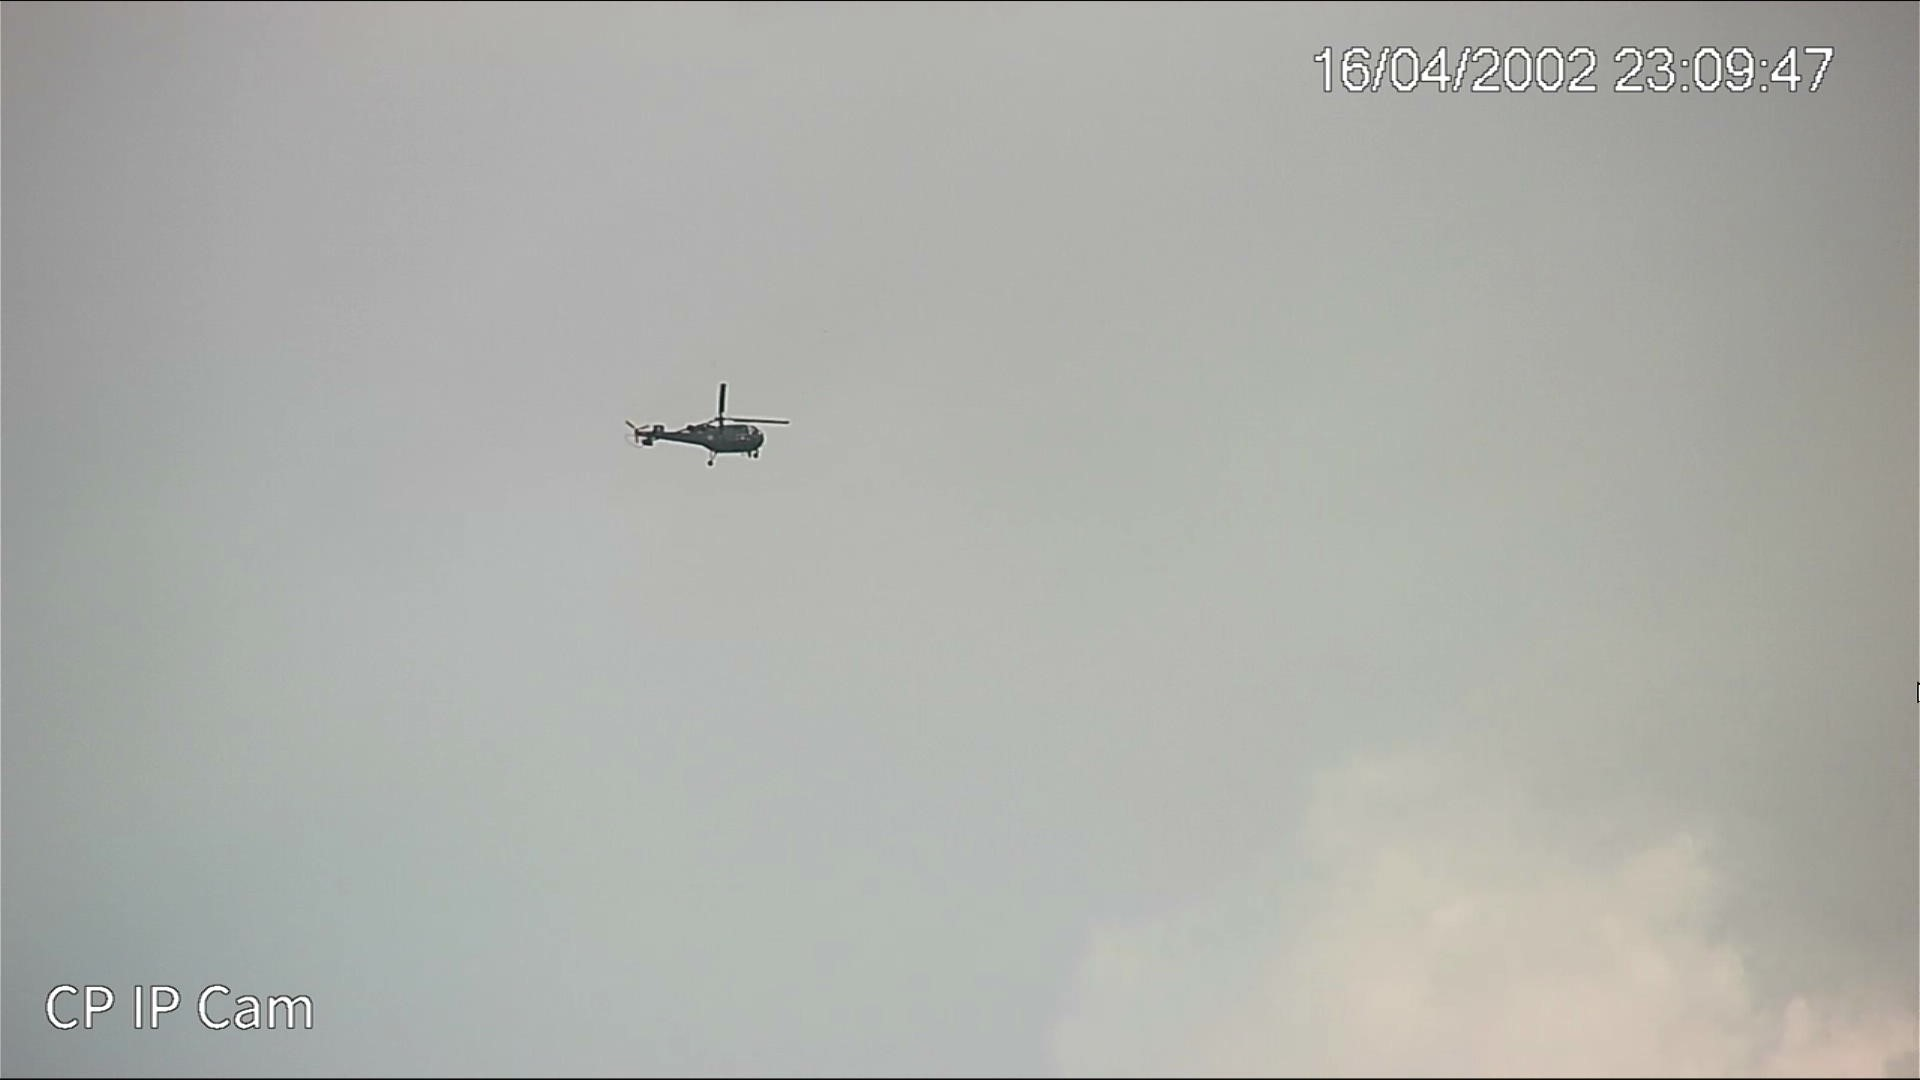SU_30: (621, 386, 773, 467)
